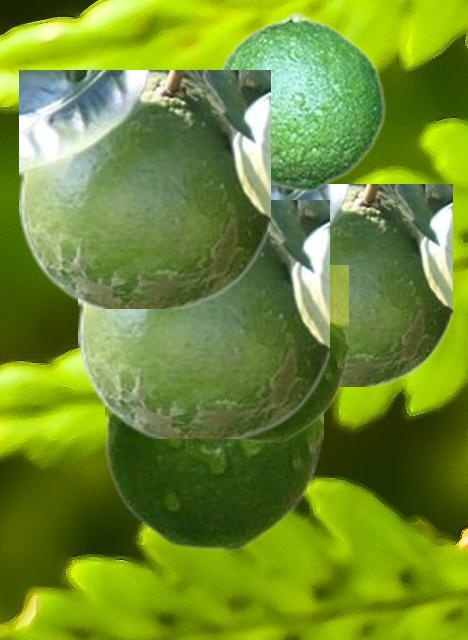dalandan: (78, 200, 328, 437), (19, 70, 269, 307), (270, 184, 451, 385), (217, 11, 385, 192), (105, 409, 322, 549), (226, 265, 347, 441)
